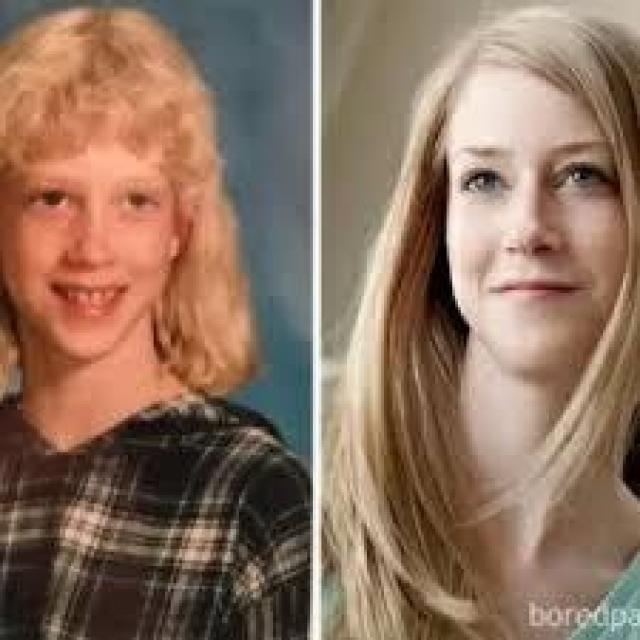person: (0, 6, 307, 632), (341, 2, 637, 628)
